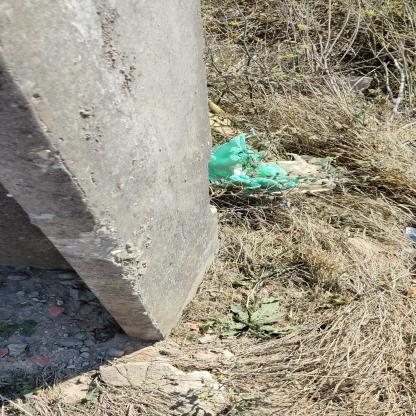Other plastic bottle: (344, 76, 373, 94)
Single-use carrier bag: (208, 128, 301, 195), (261, 153, 337, 194)
Unlabeled litter: (401, 227, 415, 241)
